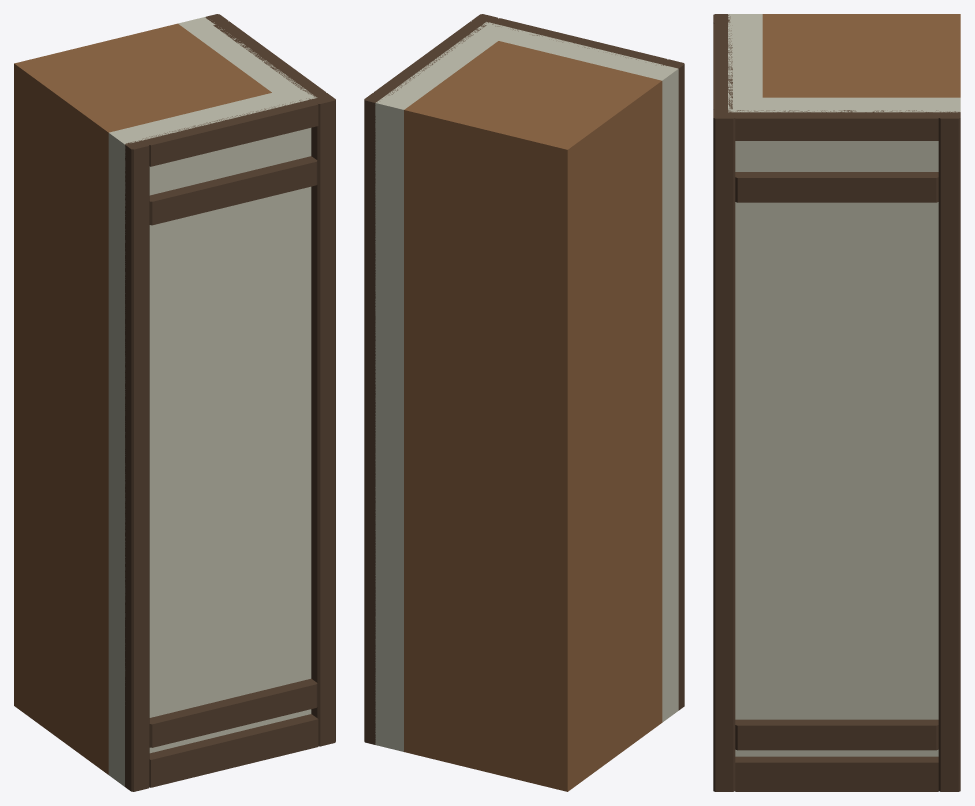
Rendered from wall_shop_corner.glb.
The picture shows the model from 3 angles, left to right: view 1: azimuth 30°, elevation 25°; view 2: azimuth 150°, elevation 25°; view 3: azimuth 270°, elevation 25°; orthographic projection. The views are drawn at different scales.
Visible parts, largest first — view 1: face_front, geometry, face_right; view 2: geometry, face_right, face_front; view 3: face_right, geometry, face_front.
Part boxes in pixels (x1,y1,x2,y2): face_front: [108, 92, 335, 791]; geometry: [14, 23, 271, 774]; face_right: [178, 14, 335, 741]; geometry: [404, 41, 662, 791]; face_right: [364, 14, 498, 751]; face_front: [482, 14, 684, 722]; face_right: [714, 97, 960, 791]; geometry: [762, 14, 960, 97]; face_front: [713, 14, 762, 791].
Bounding box in the file's own units: 1 × 3 × 1.
